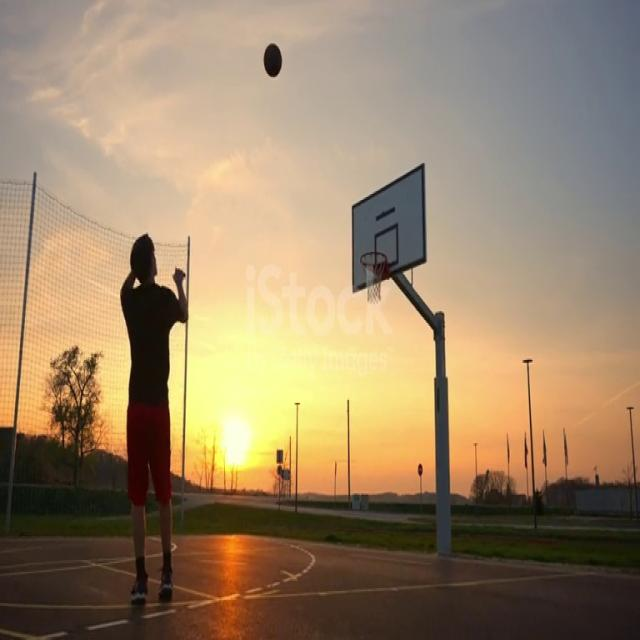ball: (264, 42, 284, 78)
